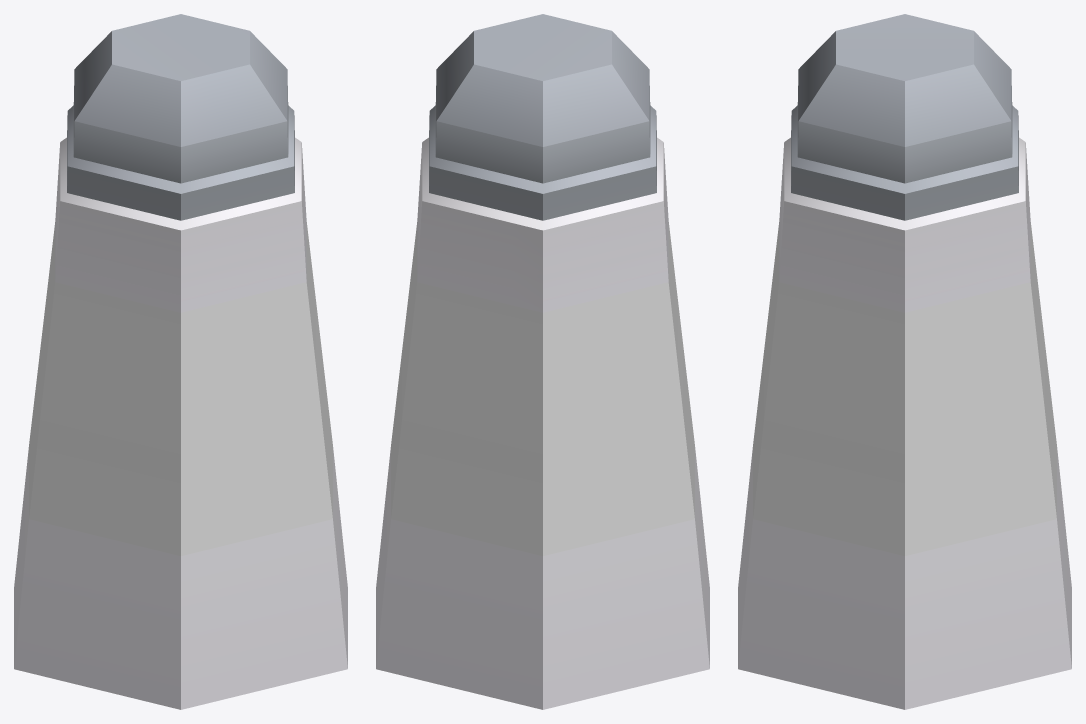
The model's file is Salt_Mesh.fbx.
3 renders of one model, left to right at view 1: azimuth 30°, elevation 25°; view 2: azimuth 150°, elevation 25°; view 3: azimuth 270°, elevation 25°, orthographic.
Visible parts, largest first — view 1: Salt_Mesh; view 2: Salt_Mesh; view 3: Salt_Mesh.
Boxes of the visible parts, box(x1,y1,x2,y2) form: Salt_Mesh: box(14, 14, 347, 709); Salt_Mesh: box(376, 14, 709, 709); Salt_Mesh: box(738, 14, 1071, 709).
Bounding box in the file's own units: 8.35 × 13.88 × 7.23.
Materials: 1 (1 with a texture image).
